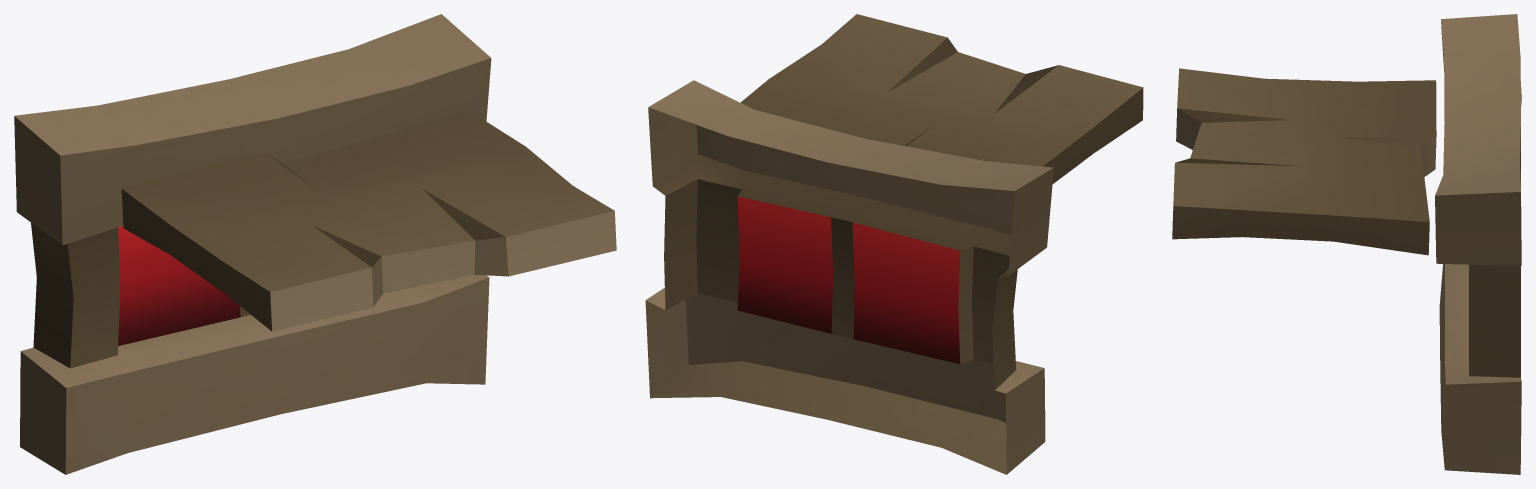
The model's file is orc_window_shutter.fbx.
The picture shows the model from 3 angles, left to right: view 1: azimuth 30°, elevation 25°; view 2: azimuth 150°, elevation 25°; view 3: azimuth 270°, elevation 25°; orthographic projection. The views are drawn at different scales.
Visible parts, largest first — view 1: orc_window_shutter; view 2: orc_window_shutter; view 3: orc_window_shutter.
Part boxes in pixels (x1=…): orc_window_shutter: x1=14, y1=14, x2=616, y2=474; orc_window_shutter: x1=645, y1=14, x2=1143, y2=474; orc_window_shutter: x1=1172, y1=14, x2=1521, y2=474.
Size of the model in its own units: 168 by 129 by 142.
